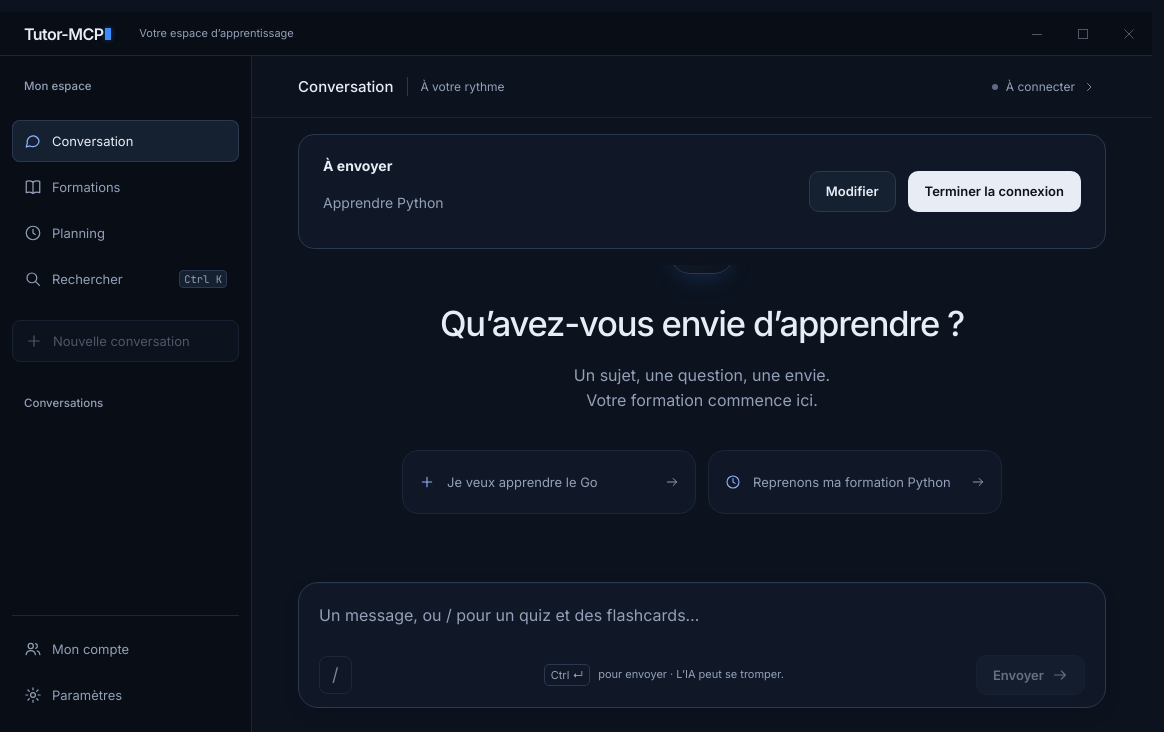
Test: Apprendre depuis la conversation › retrouve un message en attente après fermeture et permet de le modifier
The width and height of the screenshot is (1164, 732).
(page scrolled)
Check: the heading "Qu’avez-vous envie d’apprendre ?" is shown, box [440, 302, 964, 347]
Click the button "Modifier": x=852, y=192 [809, 172, 896, 212]
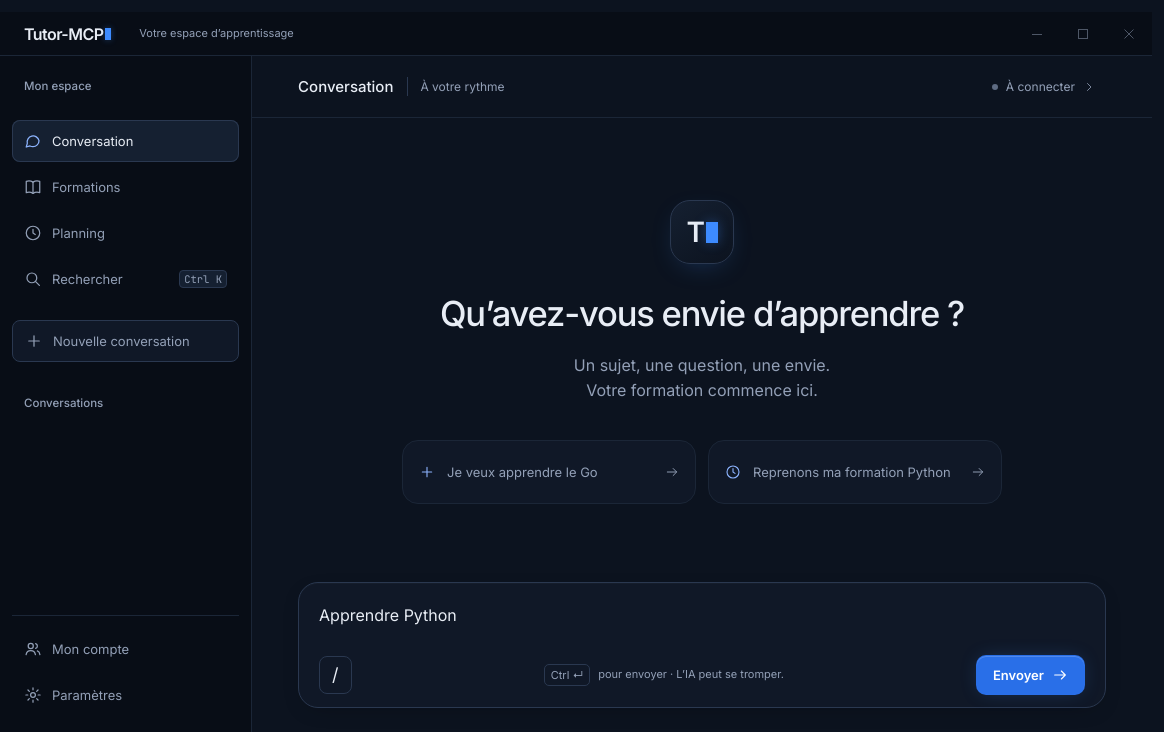
Check: the text box named "Votre message au tuteur" holds "Apprendre Python", box [319, 603, 1085, 643]
